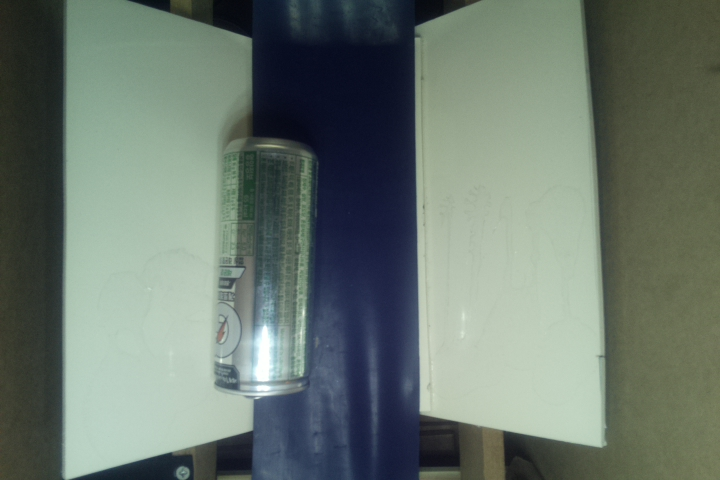can: (207, 139, 319, 400)
